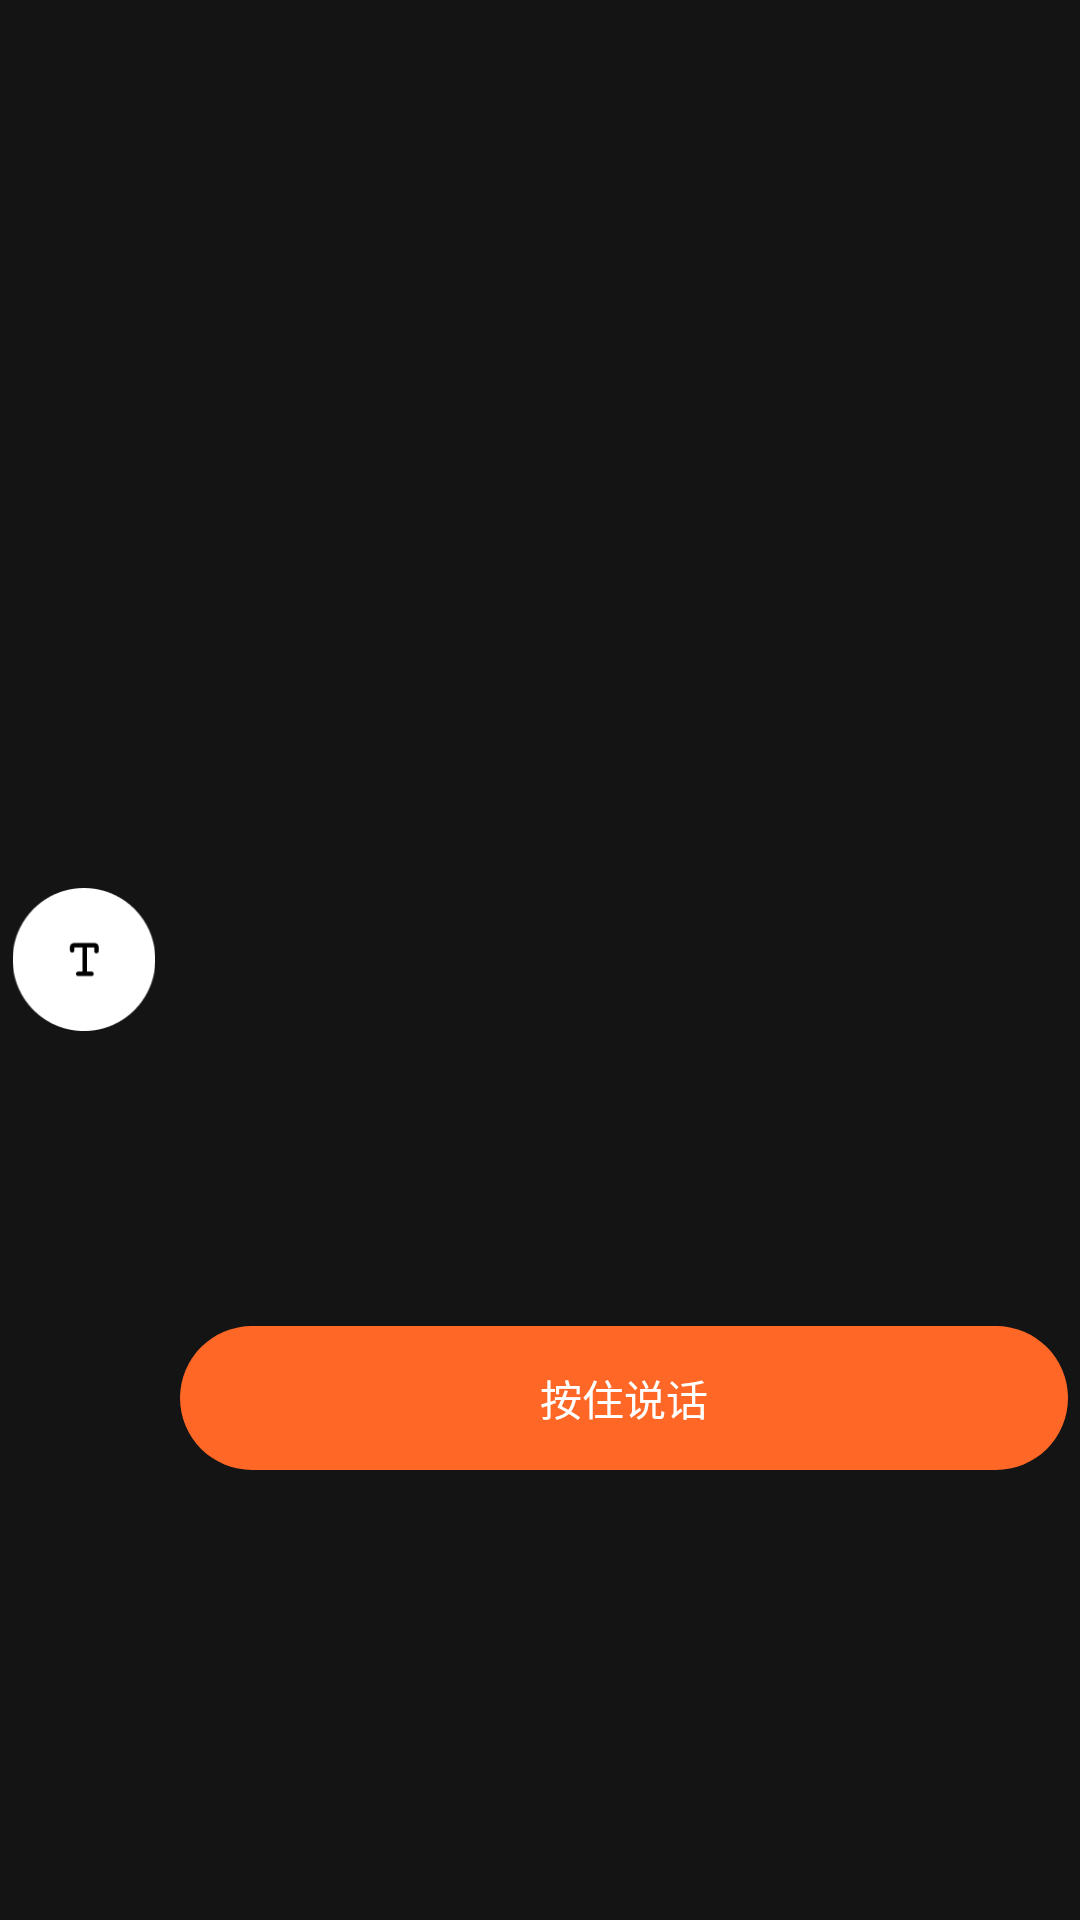

Where to tap for icons on this 1080 x 1920 app screen, as (x,y):
text: (84,959)
